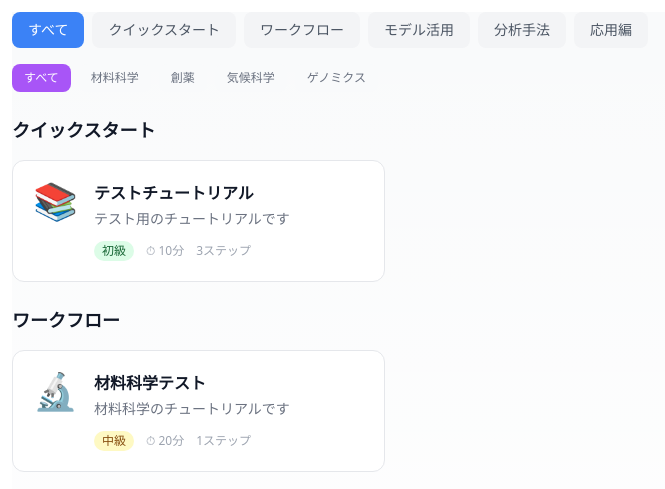
Test: Tutorial Components › TutorialList › should filter by category
Note: カテゴリフィルターボタンをクリック（ボタン要素のみを対象）
Step 1. Click the button "クイックスタート" → (164, 30), box [92,12,236,48]
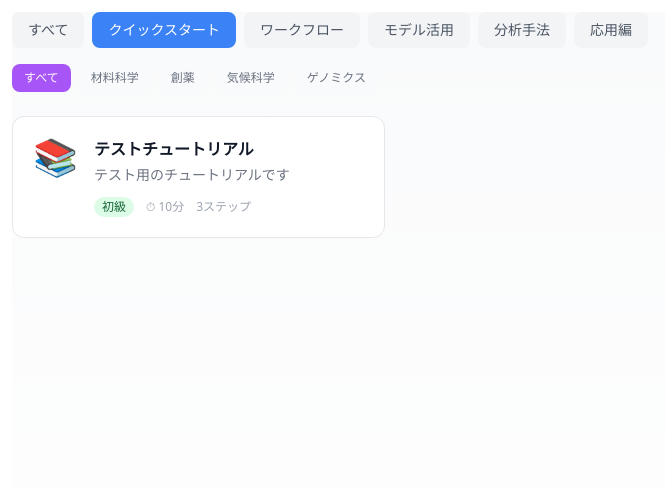
Expected: the heading "テストチュートリアル" is shown, [94,138,254,160]
Result: the heading "材料科学テスト" is gone
